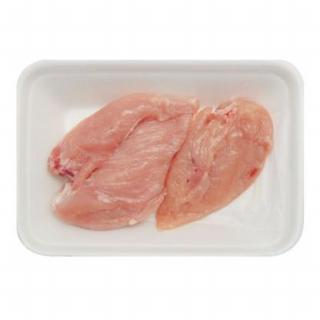Ayam: (48, 93, 196, 235), (159, 101, 277, 230)
